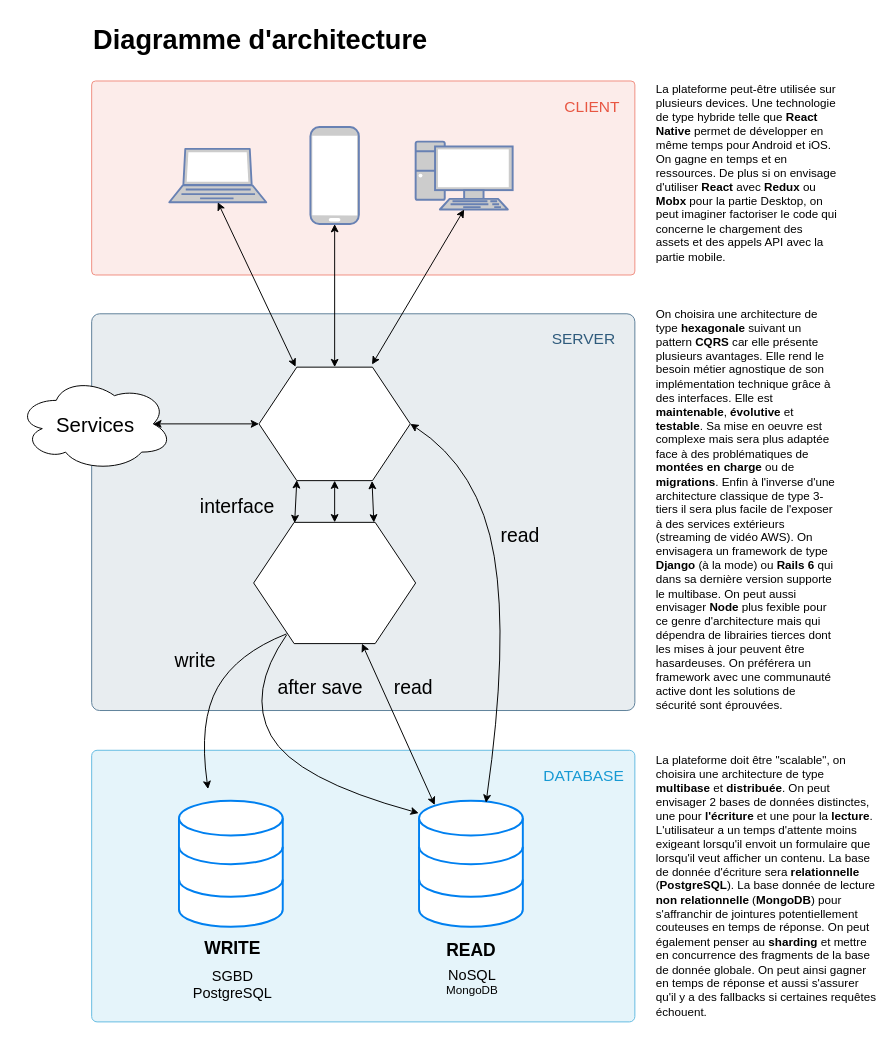
The diagram is 893 pixels wide and 1039 high, and some of its shapes have lost their labels. The centre of each missing label's shape, as x and y in pixels:
"API" goes at point (334, 423).
"Domain" goes at point (334, 582).
